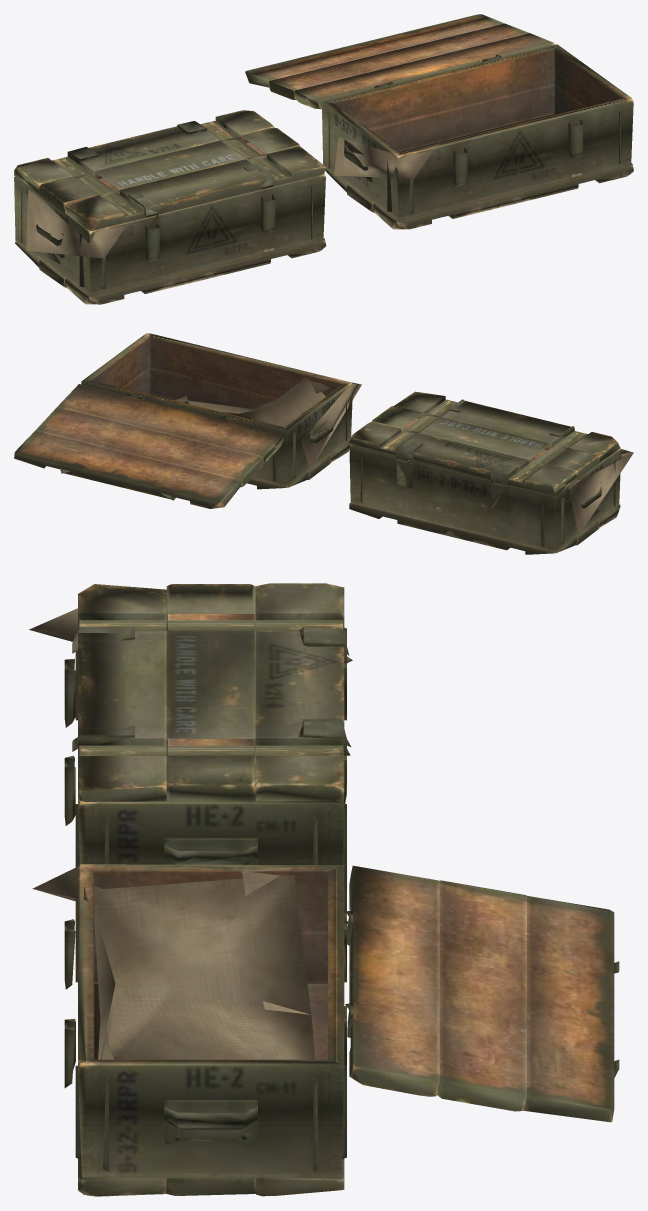
The model's file is old_military_crate.glb.
3 views of the same model, one above another, from view 1: azimuth 30°, elevation 25°; view 2: azimuth 150°, elevation 25°; view 3: azimuth 270°, elevation 25° (orthographic). The views are drawn at different scales.
Parts seen in each view (by area): view 1: old_military_crate_lid_a; view 2: old_military_crate_lid_a; view 3: old_military_crate_lid_a.
Part boxes in pixels (bbox=[...]): old_military_crate_lid_a: bbox=[14, 14, 633, 304]; old_military_crate_lid_a: bbox=[14, 333, 633, 554]; old_military_crate_lid_a: bbox=[29, 583, 619, 1196].
Size of the model in its own units: 1.81 by 0.2734 by 0.9539.
1 material, 1 textured.
